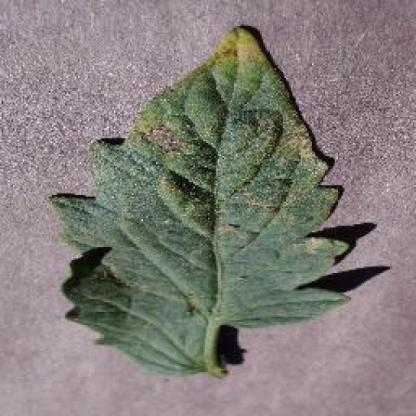Tomato_Blight: (56, 25, 349, 370)
